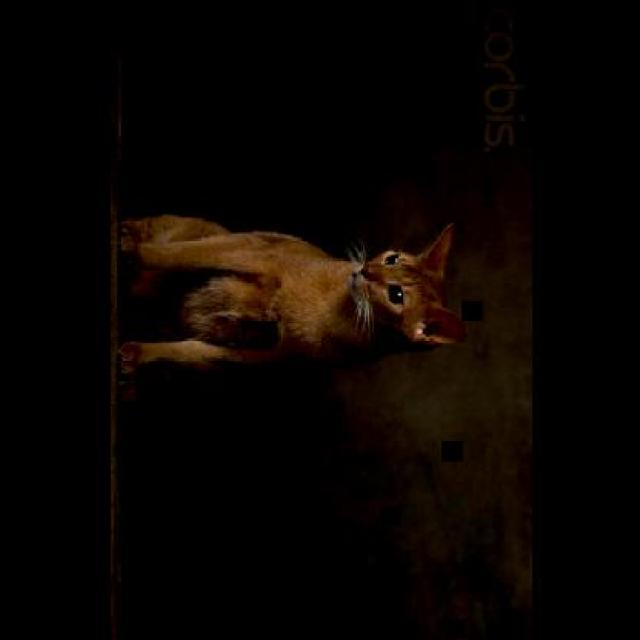unauthorized: (117, 211, 466, 372)
